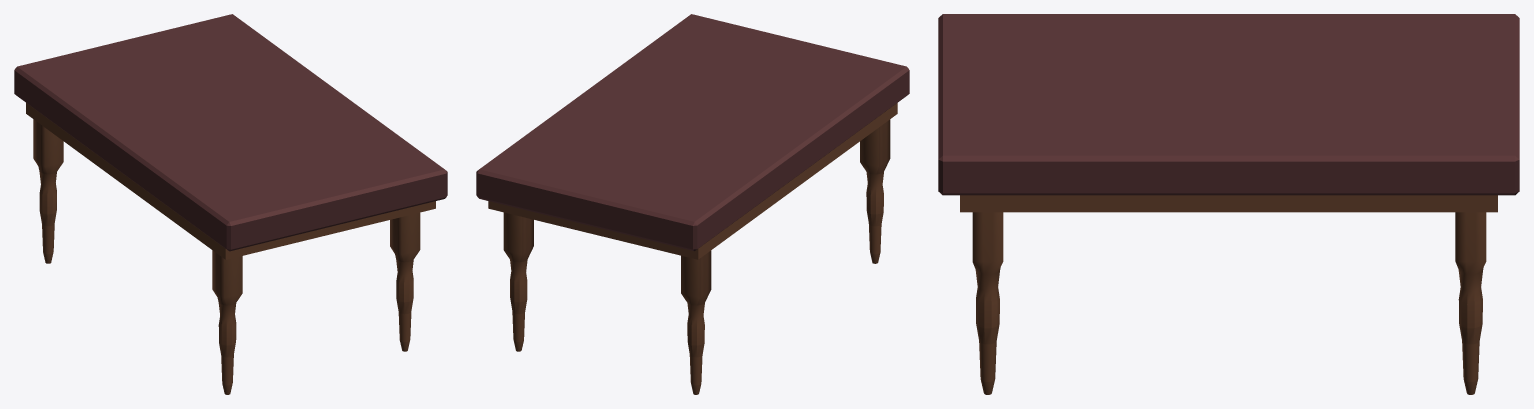
Rendered from Table.fbx.
3 renders of one model, left to right at view 1: azimuth 30°, elevation 25°; view 2: azimuth 150°, elevation 25°; view 3: azimuth 270°, elevation 25°, orthographic. The views are drawn at different scales.
Parts seen in each view (by area): view 1: TableTop, Leg_3, Leg_4, Leg_1; view 2: TableTop, Leg_1, Leg_2, Leg_3; view 3: TableTop, Leg_2, Leg_4.
Part boxes in pixels (x1,y1,x2,y2): TableTop: (14,14,447,259); Leg_3: (212,250,242,394); Leg_4: (390,212,420,351); Leg_1: (33,119,63,263); TableTop: (476,14,909,259); Leg_1: (681,250,711,394); Leg_2: (503,212,533,351); Leg_3: (860,119,890,263); TableTop: (938,14,1519,212); Leg_2: (1455,212,1486,394); Leg_4: (972,212,1003,394).
Bounding box in the file's own units: 1.48 × 1.2 × 2.5.
